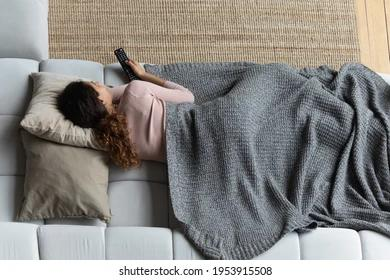blanket: (143, 56, 390, 260)
long sleeve shirt: (106, 76, 197, 166)
